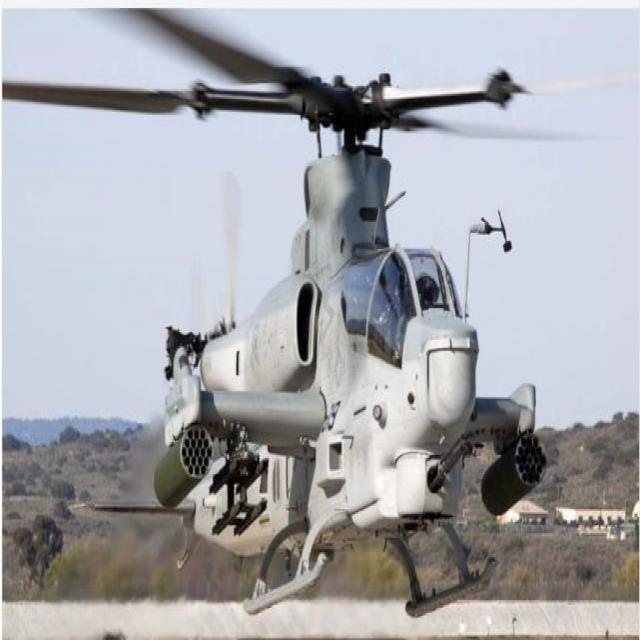MIL_HELO: (0, 17, 570, 625)
